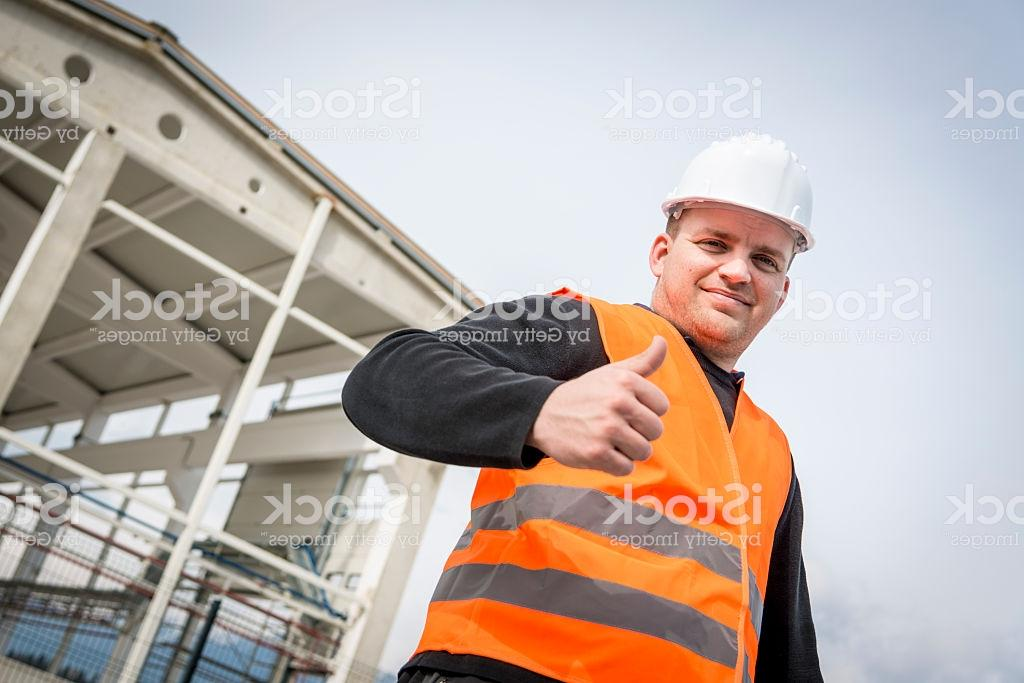thumbsup: (575, 333, 671, 478)
